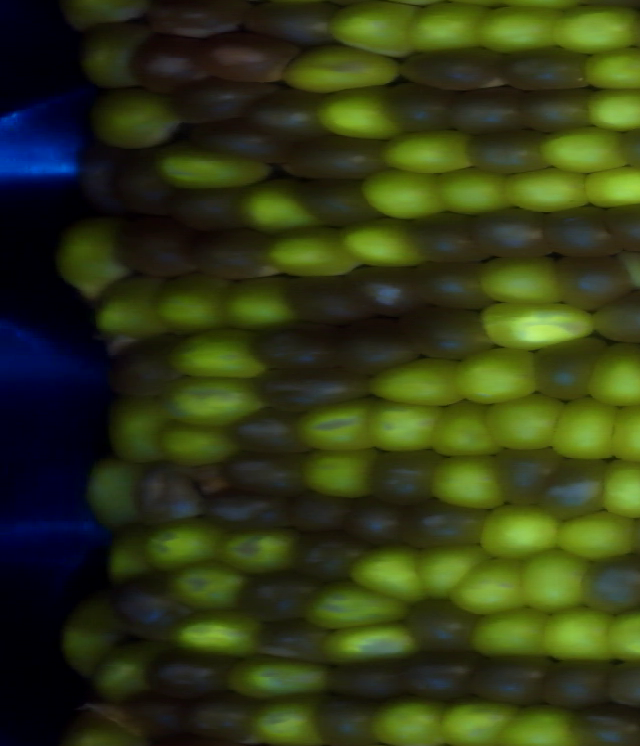fluorescent: (46, 211, 139, 304), (272, 35, 405, 98), (82, 84, 187, 157), (73, 15, 165, 95), (147, 142, 283, 195), (473, 298, 598, 355), (156, 371, 274, 431), (84, 272, 178, 346), (55, 593, 134, 680), (163, 323, 273, 385), (219, 649, 343, 703), (254, 222, 361, 284), (161, 604, 271, 664), (442, 553, 541, 619), (302, 578, 418, 634), (324, 1, 427, 64), (450, 341, 544, 410), (369, 351, 475, 412), (532, 600, 625, 669), (284, 391, 381, 456), (232, 174, 330, 238), (84, 636, 171, 707), (341, 540, 434, 606), (145, 269, 235, 337), (314, 81, 411, 143), (466, 603, 561, 666), (421, 448, 509, 515), (548, 1, 640, 63), (471, 1, 571, 58), (358, 164, 453, 224), (478, 500, 568, 563), (474, 251, 569, 310), (548, 391, 621, 467), (141, 516, 235, 575), (218, 270, 306, 333), (335, 213, 430, 271), (379, 124, 481, 178), (77, 458, 147, 536), (210, 524, 307, 580), (482, 393, 571, 454), (533, 123, 633, 177), (317, 616, 425, 666), (498, 165, 601, 217), (519, 545, 592, 618), (297, 443, 382, 505), (164, 557, 253, 616), (154, 416, 249, 471), (430, 161, 521, 218), (402, 1, 491, 59), (100, 393, 171, 465), (364, 398, 448, 457), (424, 398, 504, 459), (553, 507, 640, 563), (411, 539, 486, 603), (582, 337, 640, 413), (56, 1, 164, 37), (101, 526, 155, 590), (578, 42, 640, 94), (596, 452, 640, 523), (580, 84, 640, 136), (580, 162, 640, 214), (604, 393, 640, 468), (600, 602, 640, 667), (610, 247, 640, 294)
nonfluorescent: (105, 564, 194, 649), (189, 29, 305, 91), (520, 332, 617, 404), (246, 365, 372, 419), (107, 214, 201, 284), (397, 206, 497, 271), (162, 75, 284, 128), (182, 226, 291, 285), (104, 330, 192, 403), (331, 315, 430, 379), (278, 272, 380, 332), (187, 114, 296, 170), (111, 145, 187, 225), (484, 442, 566, 515), (530, 455, 614, 526), (140, 647, 244, 704), (402, 304, 500, 364), (229, 568, 327, 628), (123, 30, 213, 95), (339, 260, 433, 321), (395, 495, 491, 554), (402, 593, 489, 658), (406, 255, 498, 316), (398, 647, 487, 710), (392, 47, 511, 94), (551, 250, 637, 315), (468, 652, 561, 712), (288, 131, 395, 183), (213, 448, 314, 503), (129, 463, 210, 531), (234, 1, 344, 51), (538, 202, 629, 262), (245, 322, 343, 377), (365, 447, 449, 511), (67, 135, 132, 217), (288, 175, 381, 232), (176, 686, 264, 746), (472, 204, 557, 265), (378, 75, 457, 140), (203, 485, 301, 537), (117, 684, 199, 746), (319, 654, 418, 705), (495, 42, 593, 93), (293, 527, 376, 587), (135, 1, 248, 45), (244, 86, 333, 141), (463, 127, 557, 179), (231, 406, 320, 460), (441, 83, 525, 140), (539, 654, 618, 714), (171, 182, 259, 235), (251, 615, 338, 667), (339, 493, 411, 553), (579, 550, 640, 620), (514, 86, 599, 134), (311, 691, 385, 746), (284, 488, 363, 537), (585, 284, 640, 349), (569, 704, 640, 746), (600, 654, 640, 714), (603, 199, 640, 255)
